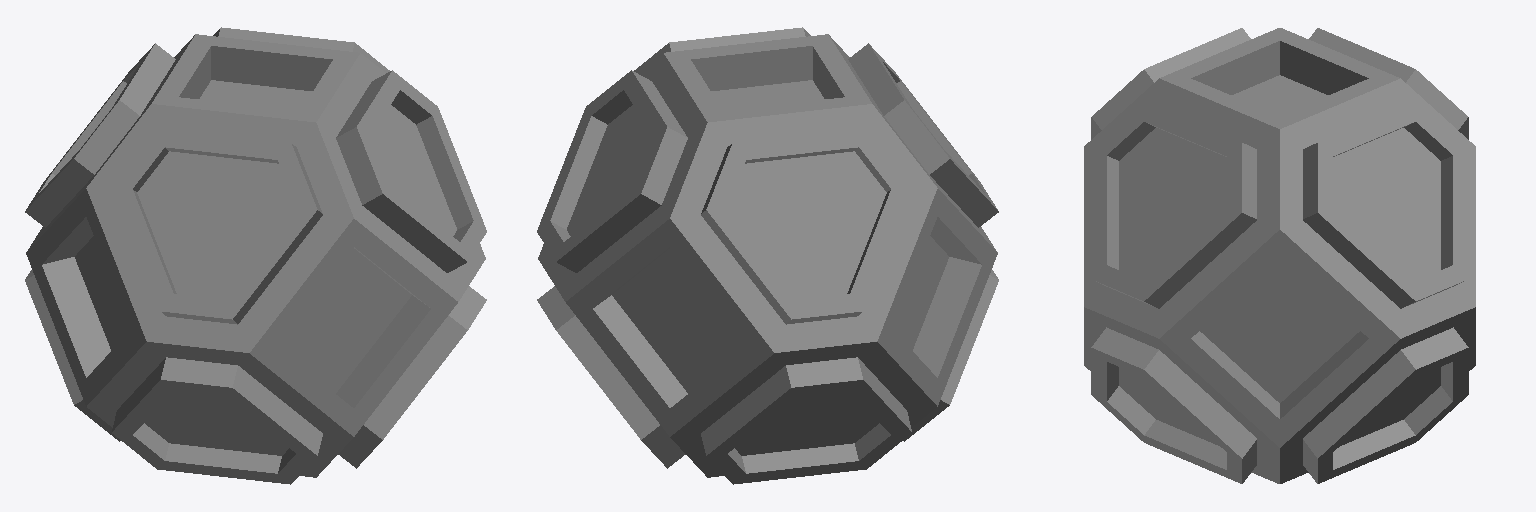
Rendered from enemy1.obj.
3 renders of one model, left to right at view 1: azimuth 30°, elevation 25°; view 2: azimuth 150°, elevation 25°; view 3: azimuth 270°, elevation 25°, orthographic.
Visible parts, largest first — view 1: Sphere001; view 2: Sphere001; view 3: Sphere001.
Boxes of the visible parts, box(x1,y1,x2,y2) form: Sphere001: box(25, 27, 486, 484); Sphere001: box(537, 27, 998, 484); Sphere001: box(1084, 28, 1475, 483).
Bounding box in the file's own units: 12.7 × 12.7 × 12.7.